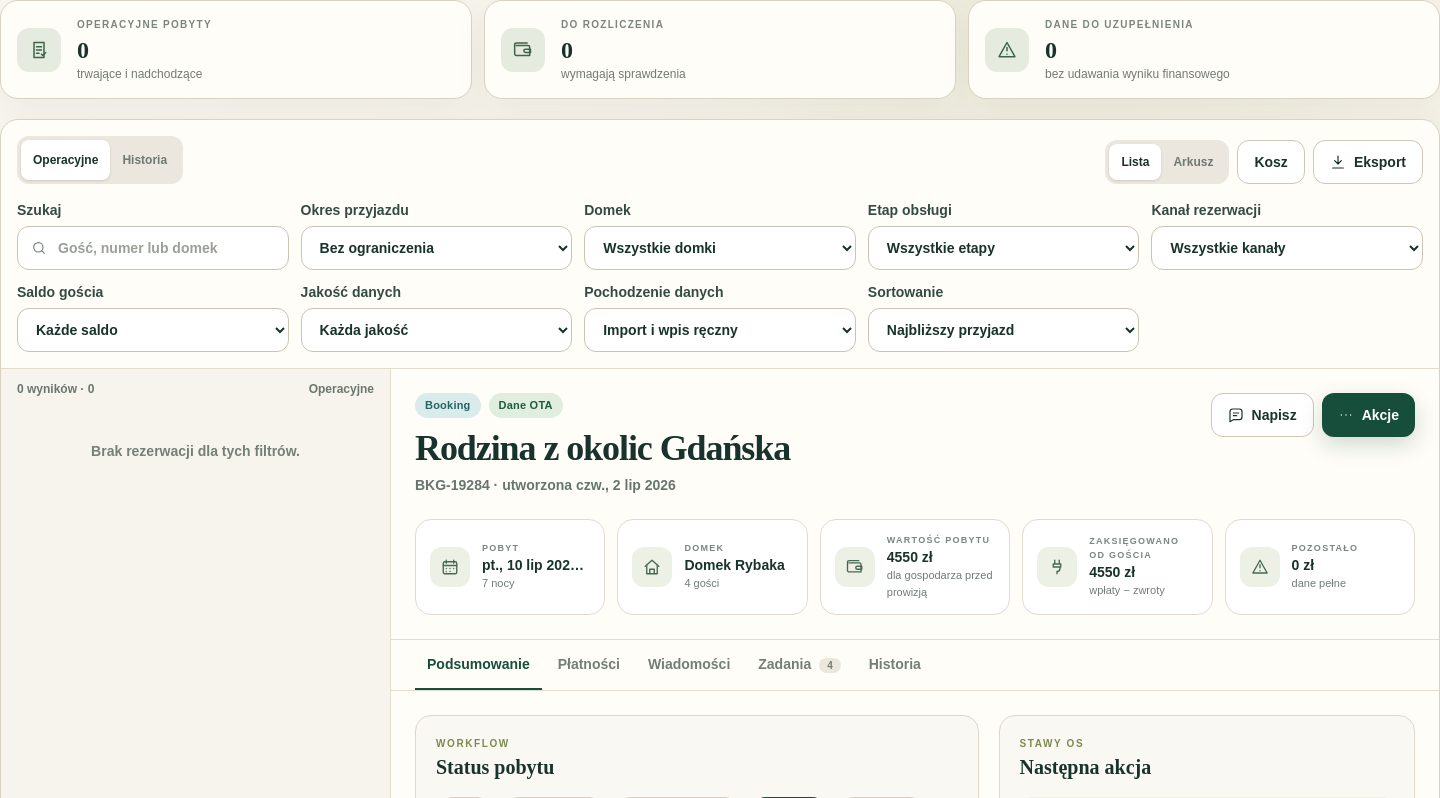
Scenario: BookingsView — fundament UX › anuluje rezerwację przez opisany alertdialog bez window.confirm
The image size is (1440, 798).
Click the button "Akcje".
click(1368, 415)  # box [1322,393,1415,437]
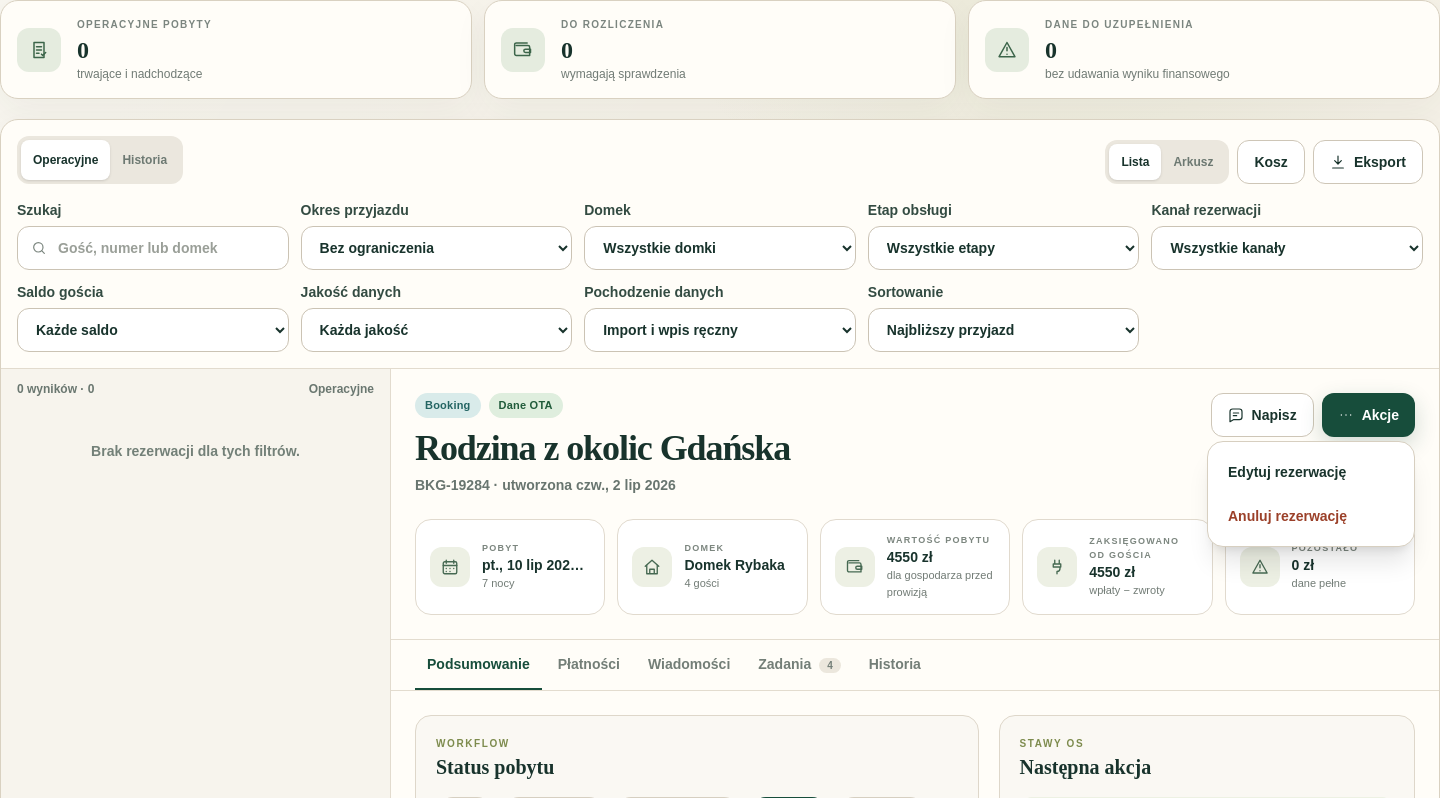
Click the button "Anuluj rezerwację".
click(1311, 516)  # box [1216,494,1406,538]
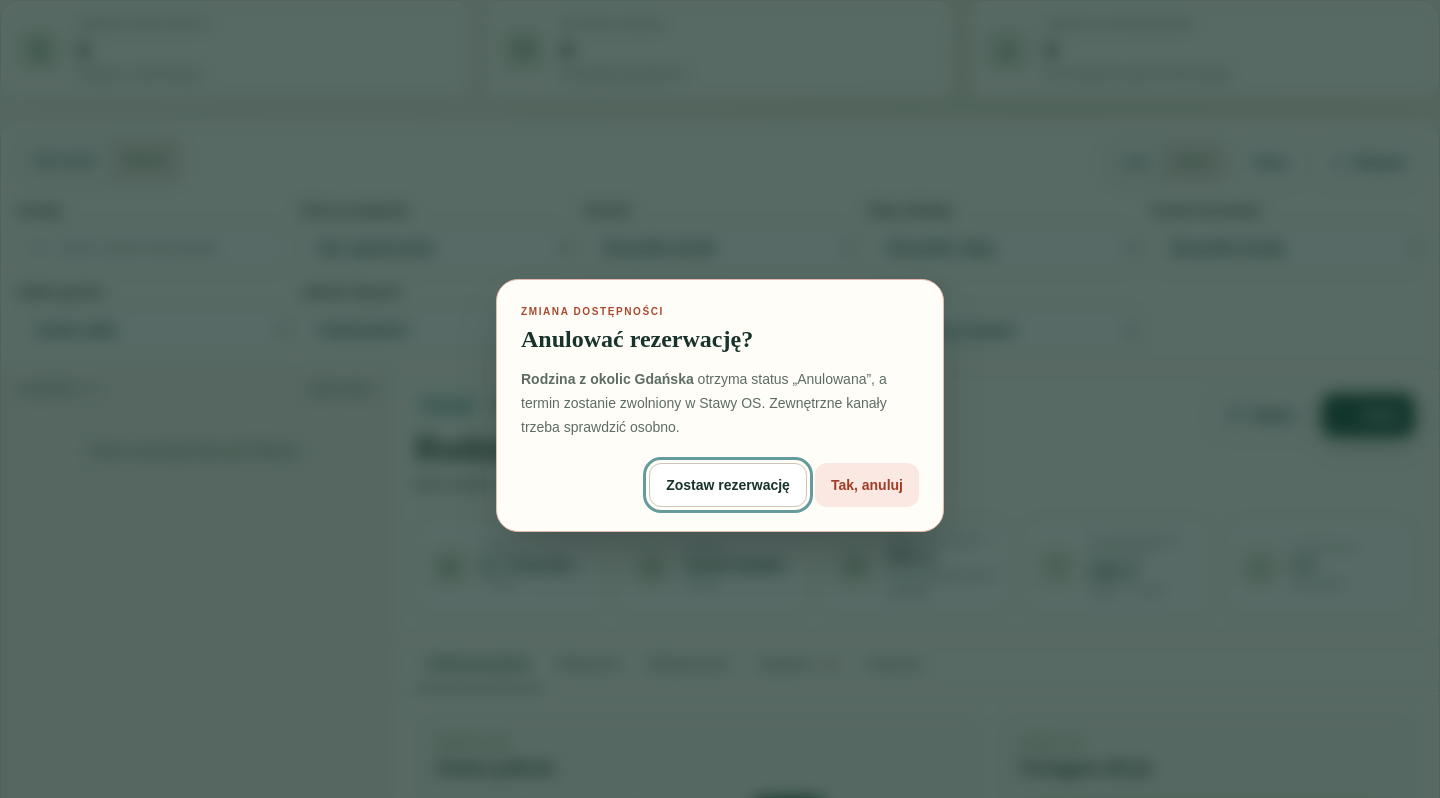
expect the dialog "Anulować rezerwację?" is shown: met, box [496,278,944,532]
expect the text "Zewnętrzne kanały trzeba sprawdzić osobno" is shown: met, box [521,370,887,434]
Click the button "Tak, anuluj".
click(867, 484)  # box [815,462,919,506]
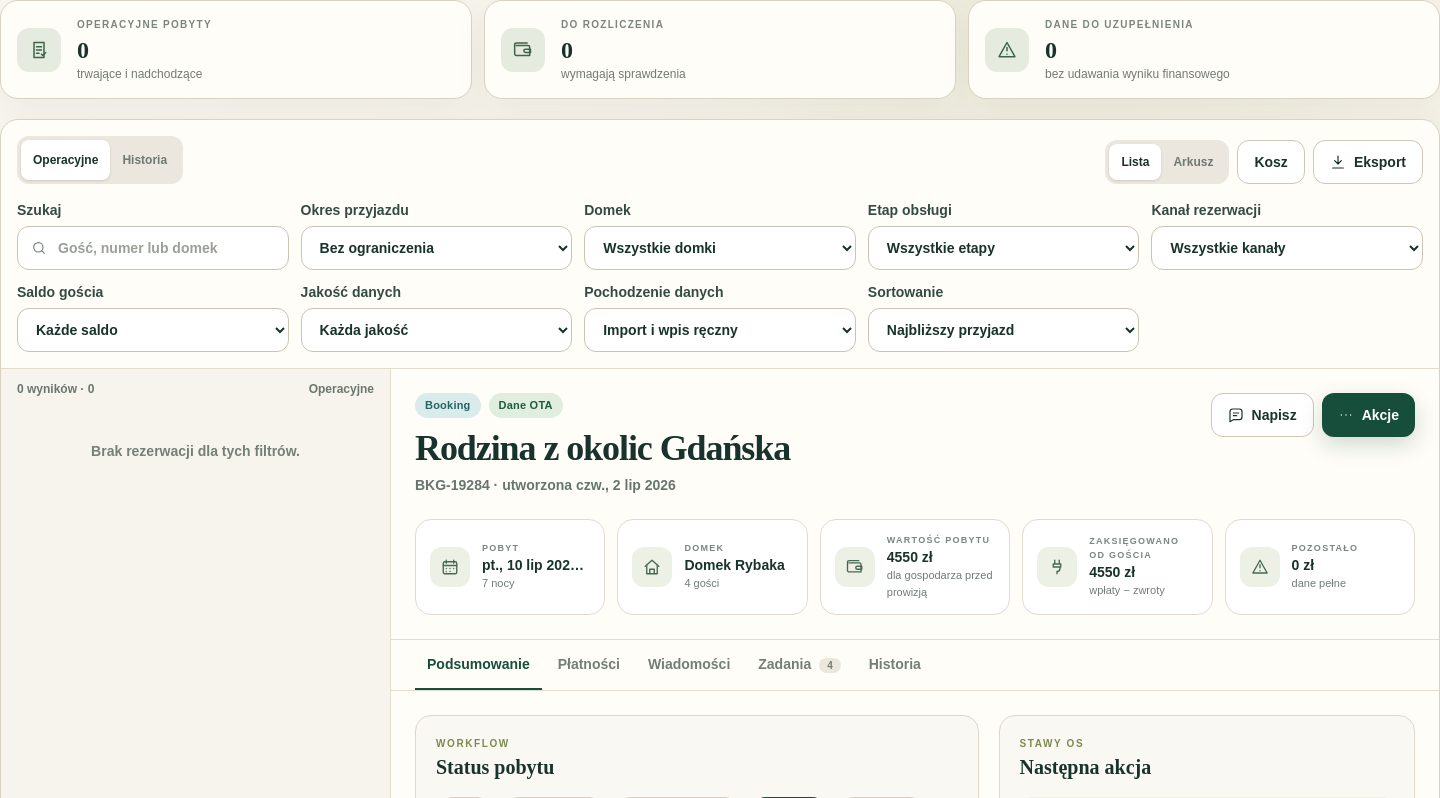
expect the heading "Anulować rezerwację?" is gone: met
